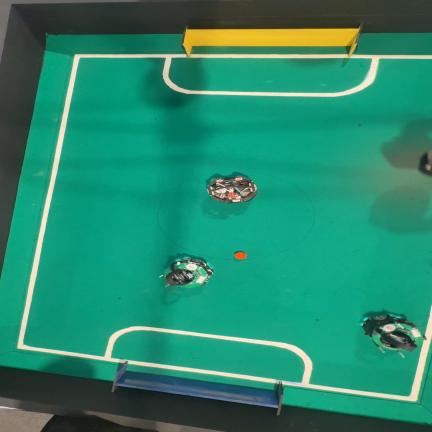cancha: (0, 33, 432, 425)
limites: (17, 54, 432, 402), (131, 361, 276, 383), (191, 54, 348, 60)
pelota: (235, 252, 246, 259)
porteria: (112, 361, 283, 415), (182, 26, 361, 56)
robot: (362, 314, 426, 351), (160, 258, 213, 287), (207, 175, 257, 203)
